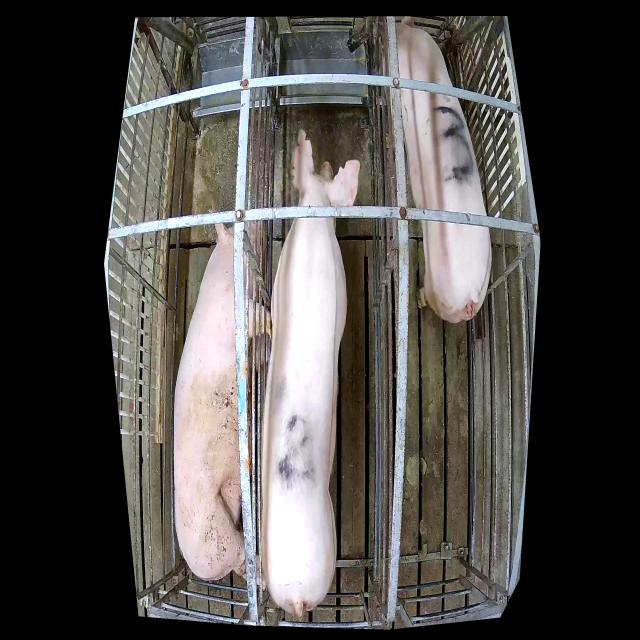pig: (262, 128, 360, 621), (174, 221, 270, 592), (384, 24, 492, 323)
